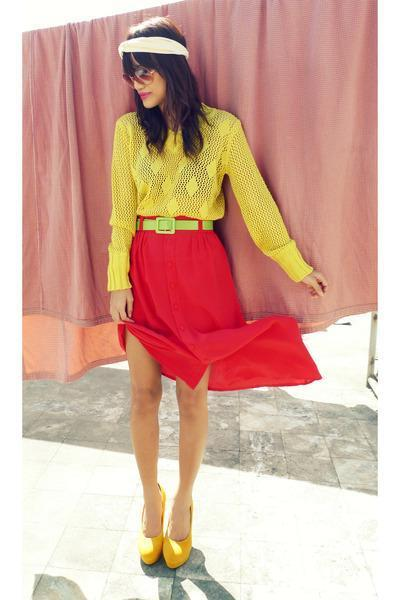sweater: (105, 107, 319, 299), (105, 217, 319, 392)
